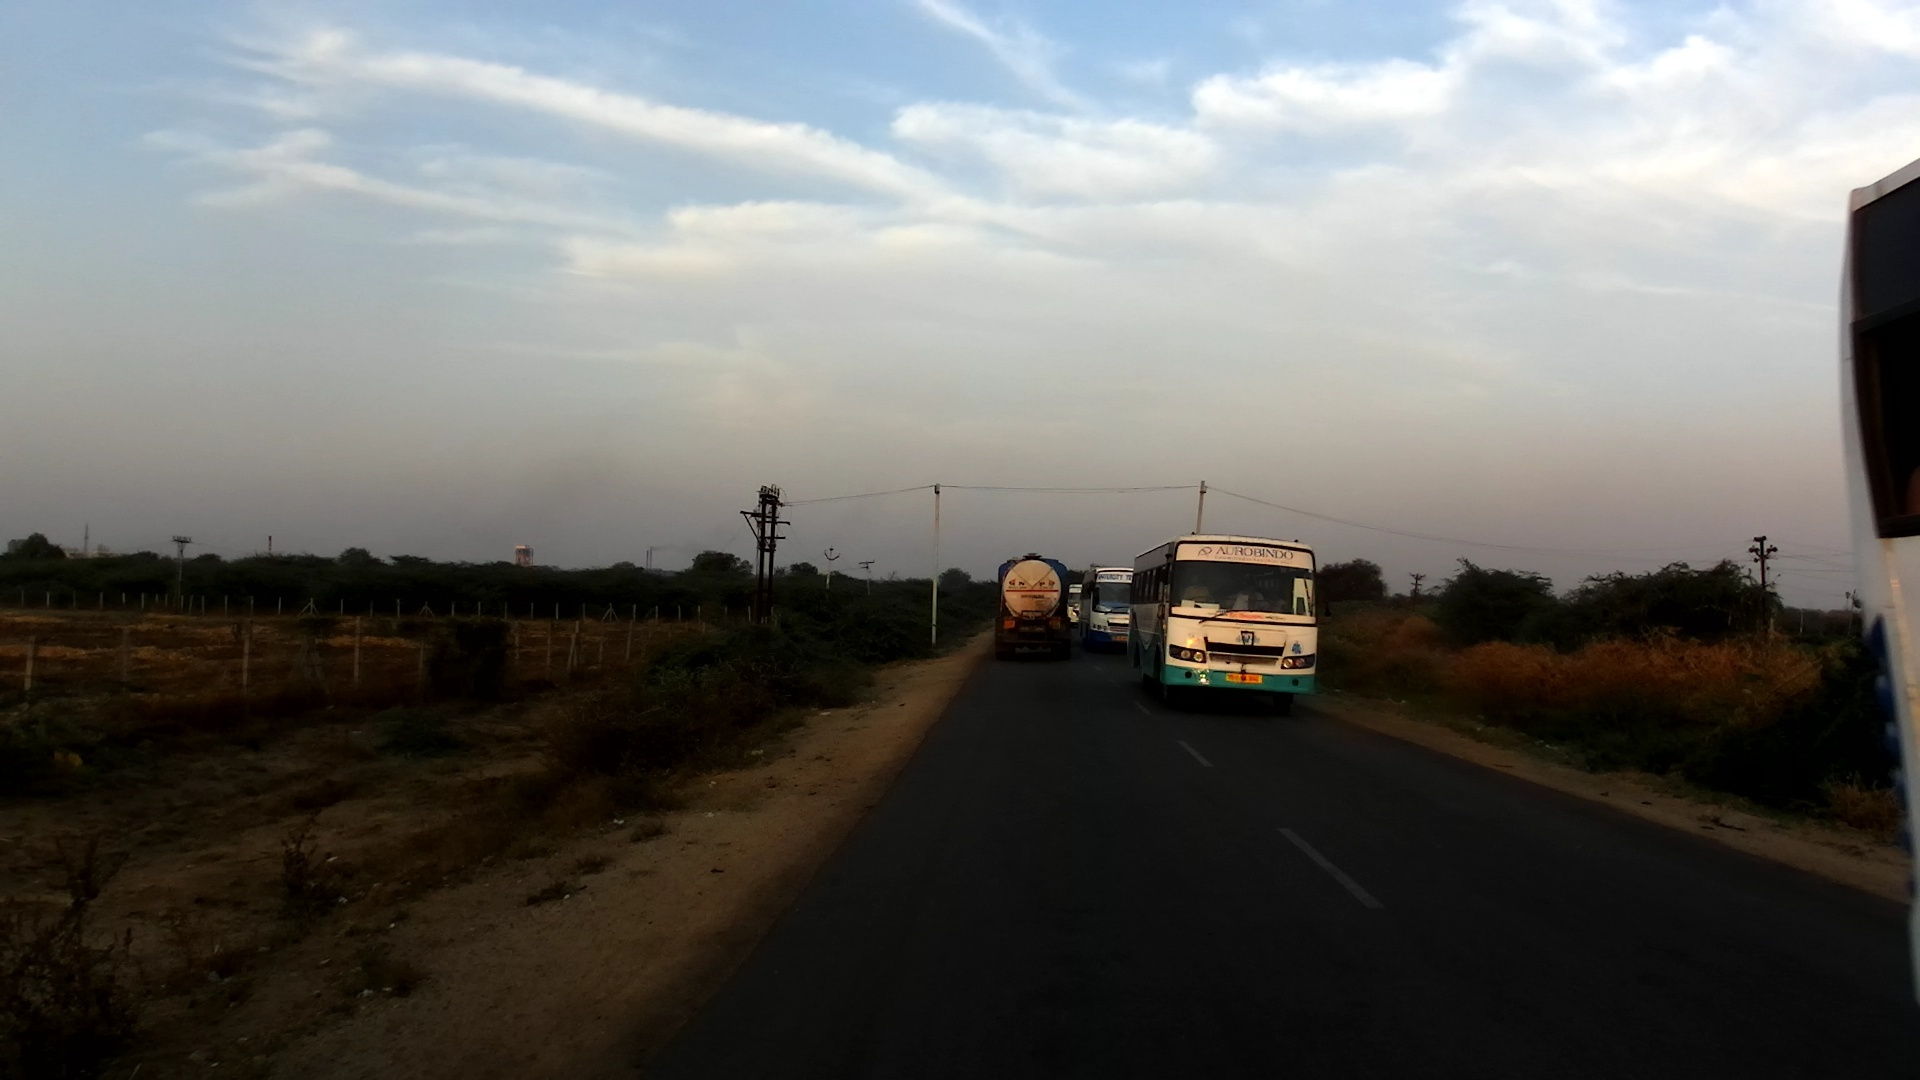bus: (1121, 535, 1323, 716), (1084, 564, 1145, 651), (1060, 582, 1088, 636)
truck: (989, 553, 1083, 665)
